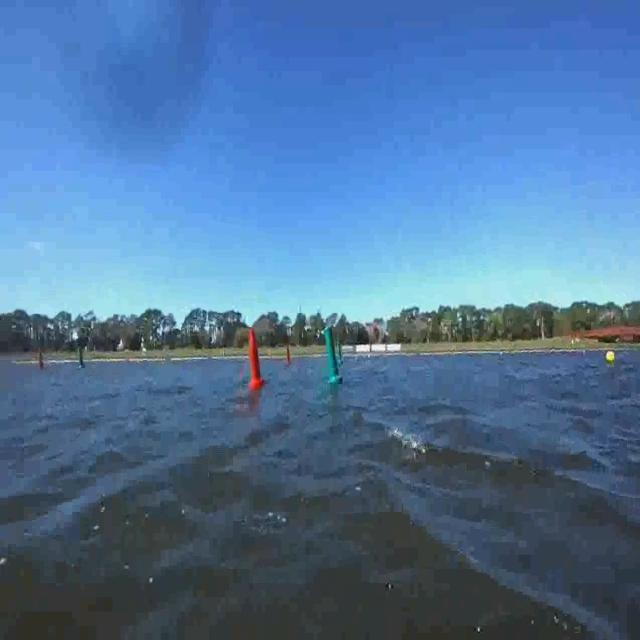green-column-buoy: (323, 326, 338, 386), (335, 339, 345, 365), (76, 344, 86, 369)
red-column-buoy: (247, 328, 264, 388), (36, 347, 43, 371), (285, 346, 292, 366)
yellow-buoy: (605, 350, 615, 364)
